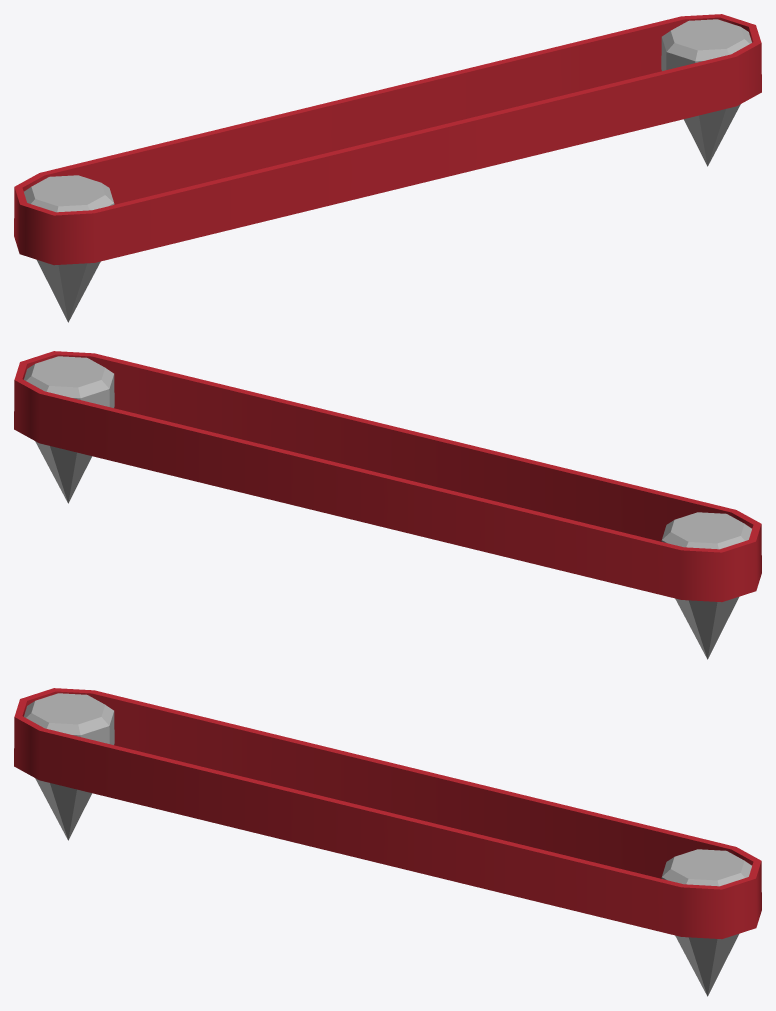
File: Elastic Band Small Red.fbx
The picture shows the model from 3 angles, top to bottom: view 1: azimuth 30°, elevation 25°; view 2: azimuth 150°, elevation 25°; view 3: azimuth 330°, elevation 25°; orthographic projection.
Parts seen in each view (by area): view 1: Band, Pegs; view 2: Band, Pegs; view 3: Band, Pegs.
Boxes of the visible parts, x1,y1,x2,y2 form: Band: (14, 14, 761, 265); Pegs: (24, 19, 751, 322); Band: (14, 351, 761, 602); Pegs: (24, 356, 751, 659); Band: (14, 688, 761, 939); Pegs: (24, 693, 751, 996).
Bounding box in the file's own units: 0.5559 × 0.0952 × 0.0727.
